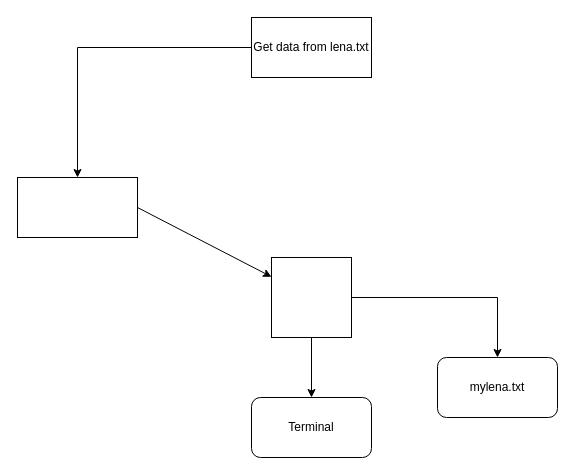
Image size: 575x475. Some labels were removed from this diagram. Here are the shapes that lost their labels. From the top down, the centre of each, then its label:
the point at 77,207: lena[][]
the point at 311,297: GenerateLena
